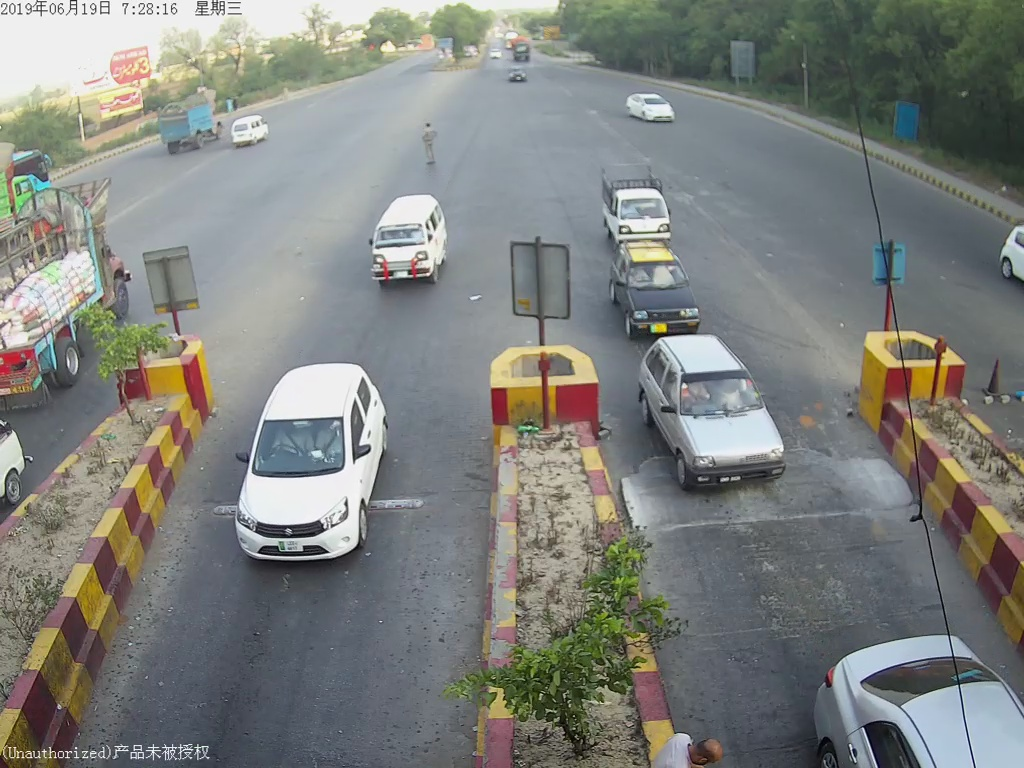Cat-1: (227, 367, 402, 566), (641, 352, 798, 491), (365, 190, 452, 291), (607, 248, 709, 333), (596, 171, 681, 240)
